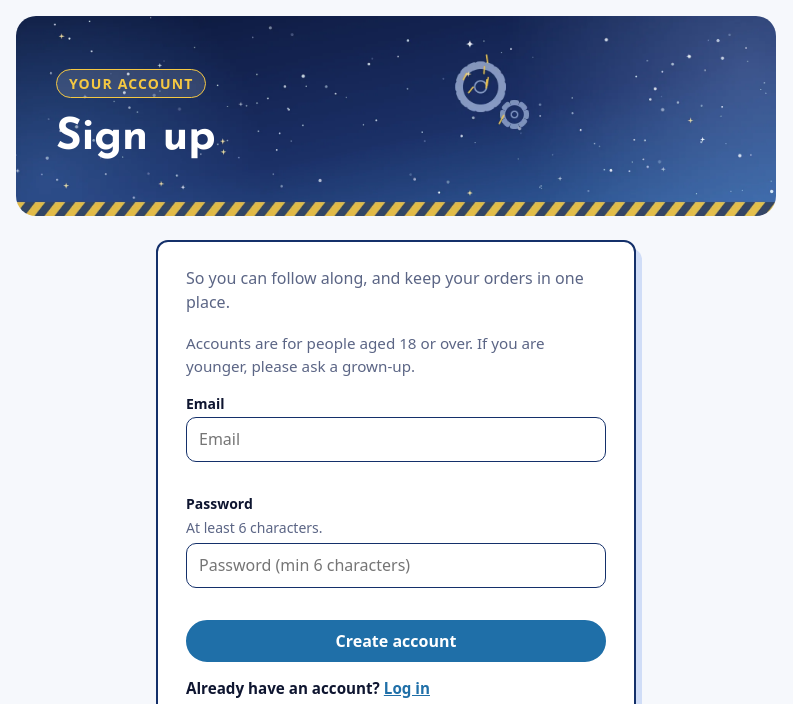
Test case: once the account is made › the form is gone, so there is no Create account button to press a second time
Type " gill@example.com " into the field labelled "Email" at (396, 440), box [186,417,606,462]
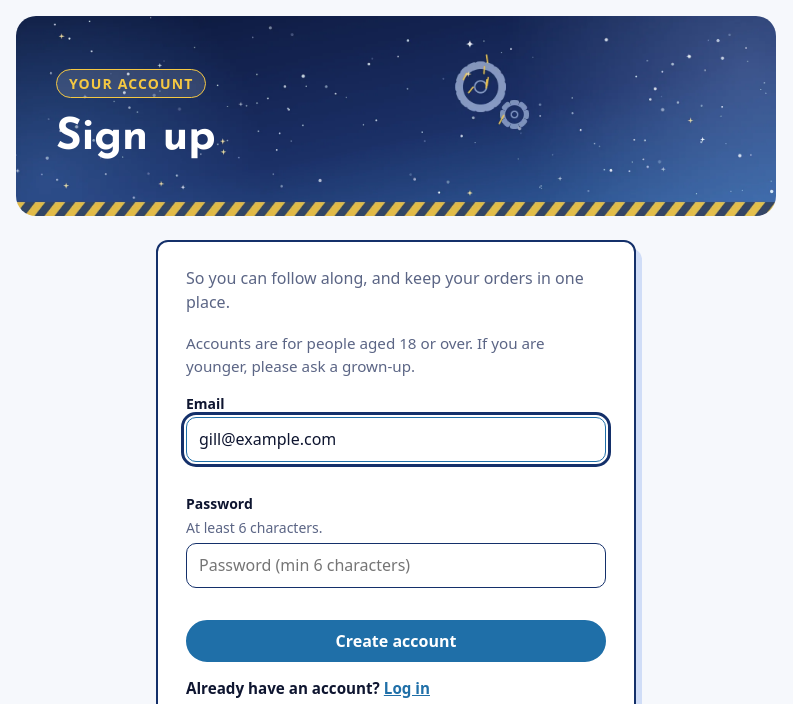
Type "secret123" into the password field labelled "Password" at (396, 566), box [186,543,606,588]
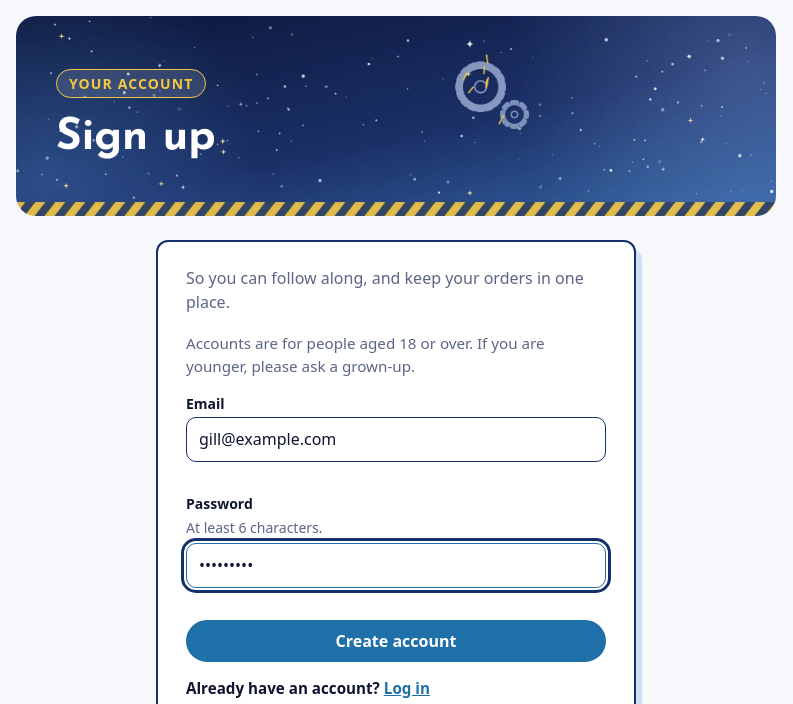
Click the button "Create account" at (396, 641), box [186,620,606,662]
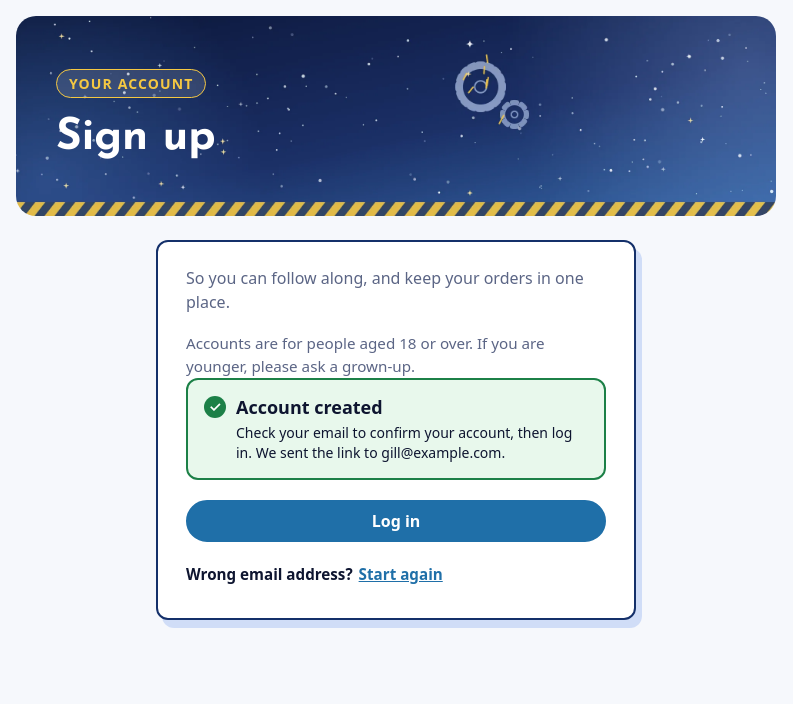
Now the message is shown, box [186,378,606,480]
Now the button "Create account" is gone
Now the label labelled "Password" is gone
